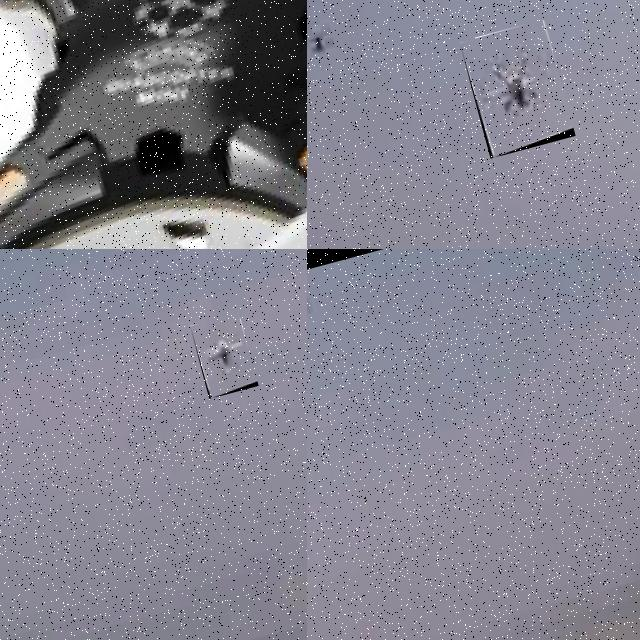drone: (0, 0, 307, 249), (459, 19, 575, 158), (190, 312, 258, 398)
